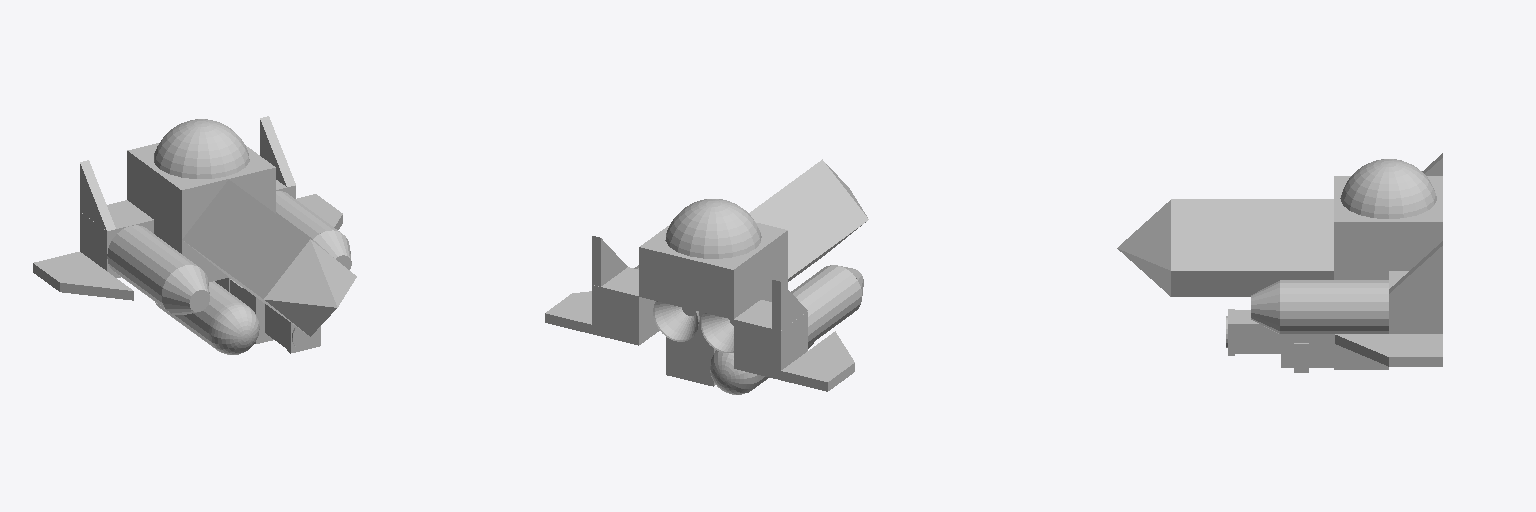
The model's file is MC_Steve.obj.
3 renders of one model, left to right at view 1: azimuth 30°, elevation 25°; view 2: azimuth 150°, elevation 25°; view 3: azimuth 270°, elevation 25°, orthographic.
Visible parts, largest first — view 1: nose group, cockpit_base, cockpit_glass, cylinder_R group11, tank_thing, wing2_R group10, side_cube_R group19, group11 cone_R, cannon_main, wing1_R, cylinder_L, wing1_L group12 (+3 smaller); view 2: cockpit_base, nose group, cockpit_glass, side_cube_R group19, side_cube_L, cylinder_R group11, wing2_R group10, tank_thing, wing2_L pasted__group10 group13, Engine_L, wing1_R, wing1_L group12 (+1 smaller); view 3: nose group, cockpit_base, cylinder_L, cockpit_glass, wing2_L pasted__group10 group13, side_cube_L, cannon_main, wing1_L group12, cannon_base, cone_L.
Part boxes in pixels (x1,y1,x2,y2): nose group: (182, 180, 356, 336); cockpit_base: (127, 143, 275, 291); cockpit_glass: (154, 119, 249, 178); cylinder_R group11: (107, 225, 196, 311); tank_thing: (155, 281, 259, 354); wing2_R group10: (33, 252, 133, 300); side_cube_R group19: (80, 200, 153, 277); group11 cone_R: (162, 265, 209, 314); cannon_main: (265, 304, 320, 353); wing1_R: (80, 160, 115, 230); cylinder_L: (276, 191, 339, 239); wing1_L group12: (260, 116, 295, 186); cockpit_base: (639, 222, 787, 386); nose group: (749, 159, 868, 281); cockpit_glass: (665, 199, 761, 258); side_cube_R group19: (734, 300, 807, 379); side_cube_L: (592, 267, 659, 345); cylinder_R group11: (791, 265, 861, 345); wing2_R group10: (781, 331, 854, 391); tank_thing: (710, 342, 813, 394); wing2_L pasted__group10 group13: (545, 291, 591, 333); Engine_L: (653, 301, 699, 341); wing1_R: (772, 280, 807, 330); wing1_L group12: (592, 236, 627, 286); nose group: (1117, 199, 1333, 296); cockpit_base: (1334, 176, 1442, 369); cylinder_L: (1280, 280, 1388, 333); cockpit_glass: (1340, 159, 1436, 218); wing2_L pasted__group10 group13: (1335, 334, 1442, 366); side_cube_L: (1389, 271, 1442, 333); cannon_main: (1226, 309, 1308, 372); wing1_L group12: (1389, 241, 1442, 293); cannon_base: (1281, 334, 1333, 367); cone_L: (1251, 281, 1279, 333).
Bounding box in the file's own units: 35 × 21.88 × 34.96.